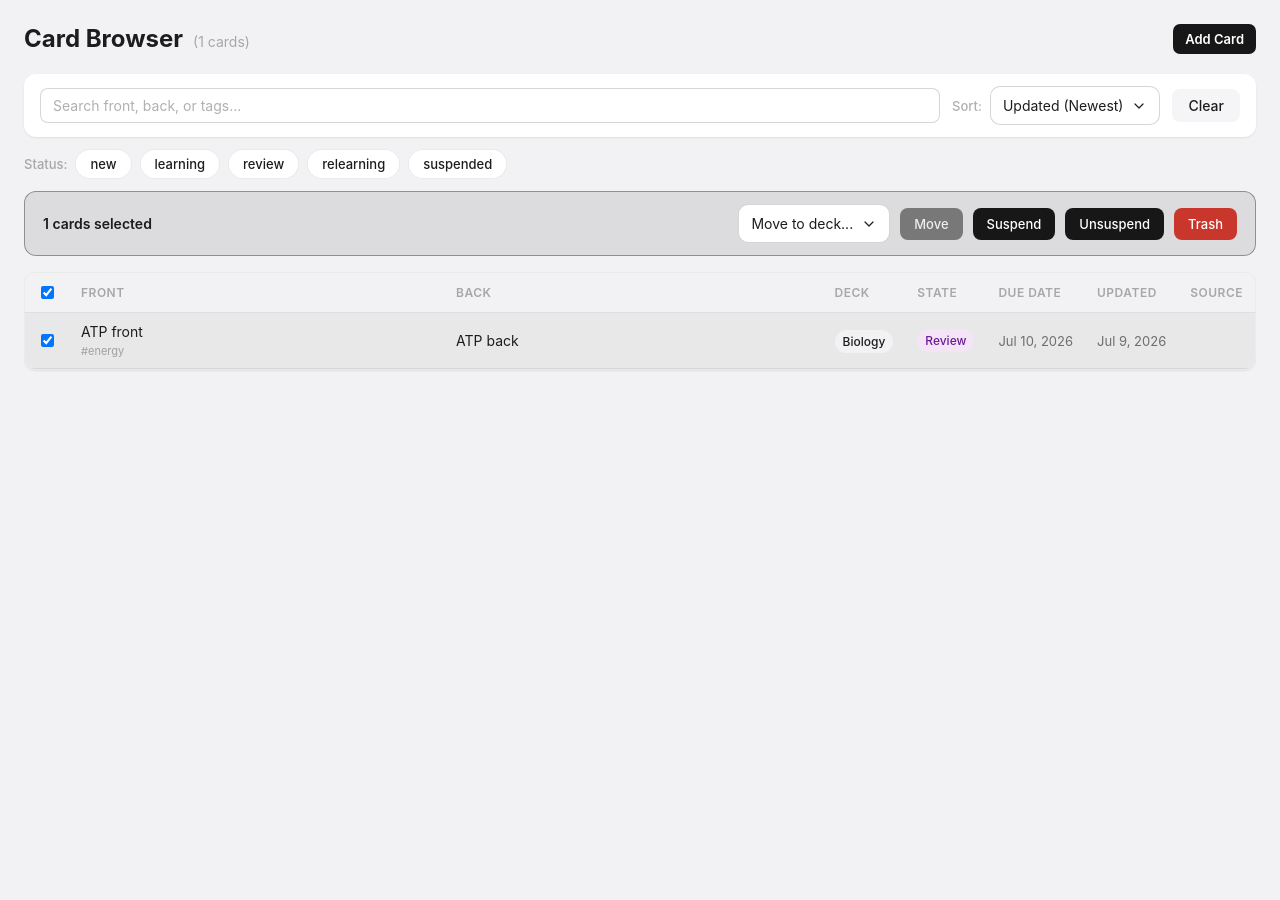
CardBrowser component › handles bulk operations and side panel editing
This screenshot has width=1280, height=900.
Expected: the text "ATP front" is shown, [81,323,143,340]
Expected: the text "1 cards selected" is shown, [43,215,152,232]
Double-click the text "ATP front" at (640, 340), box [25,312,1255,368]
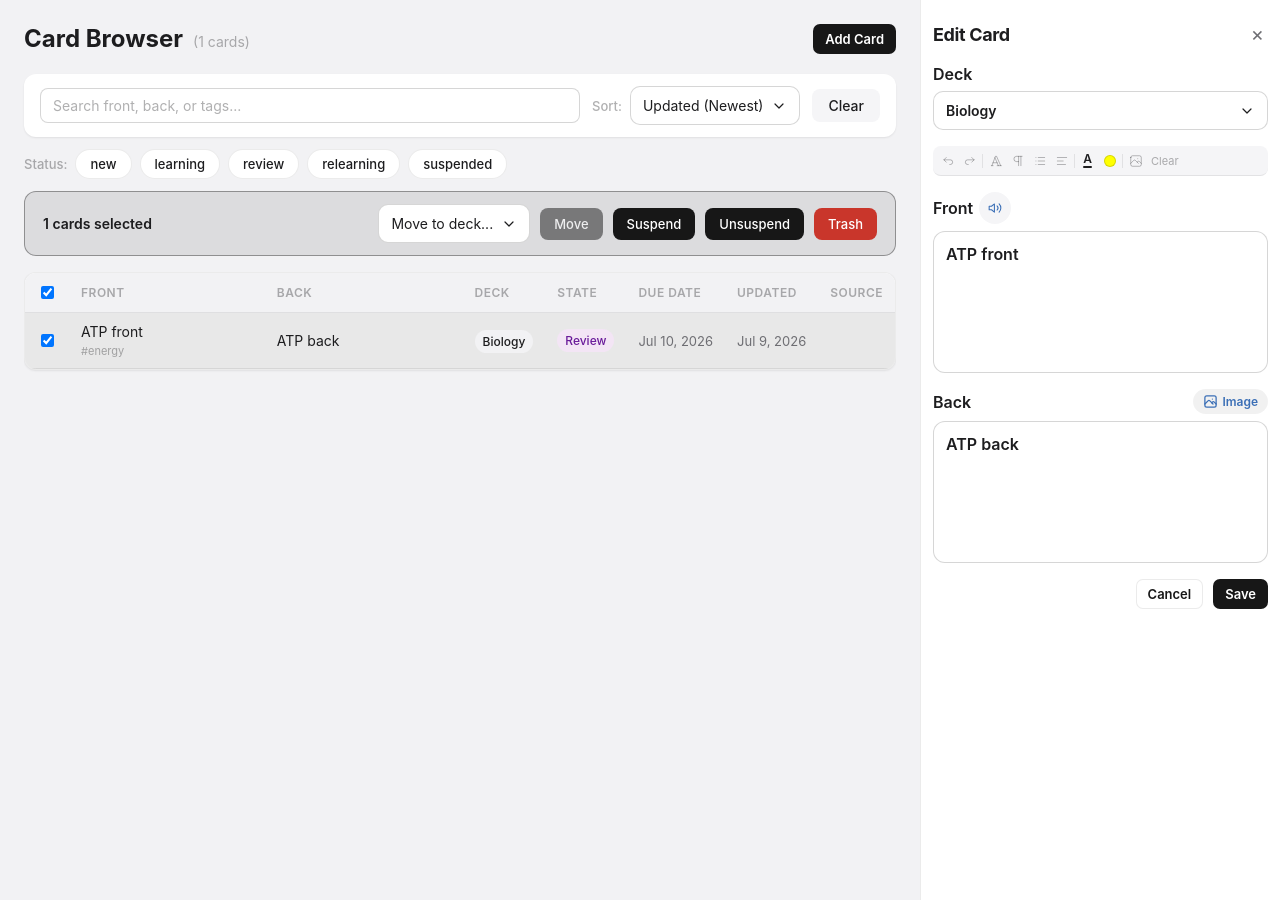
Result: the dialog "Edit Card" is shown at [920,0,1279,899]
Result: the field labelled "front" reads "ATP front" at [946,244,1019,264]
Click the button named "Close composer". click: (1257, 34)
box: [1247,20,1268,48]
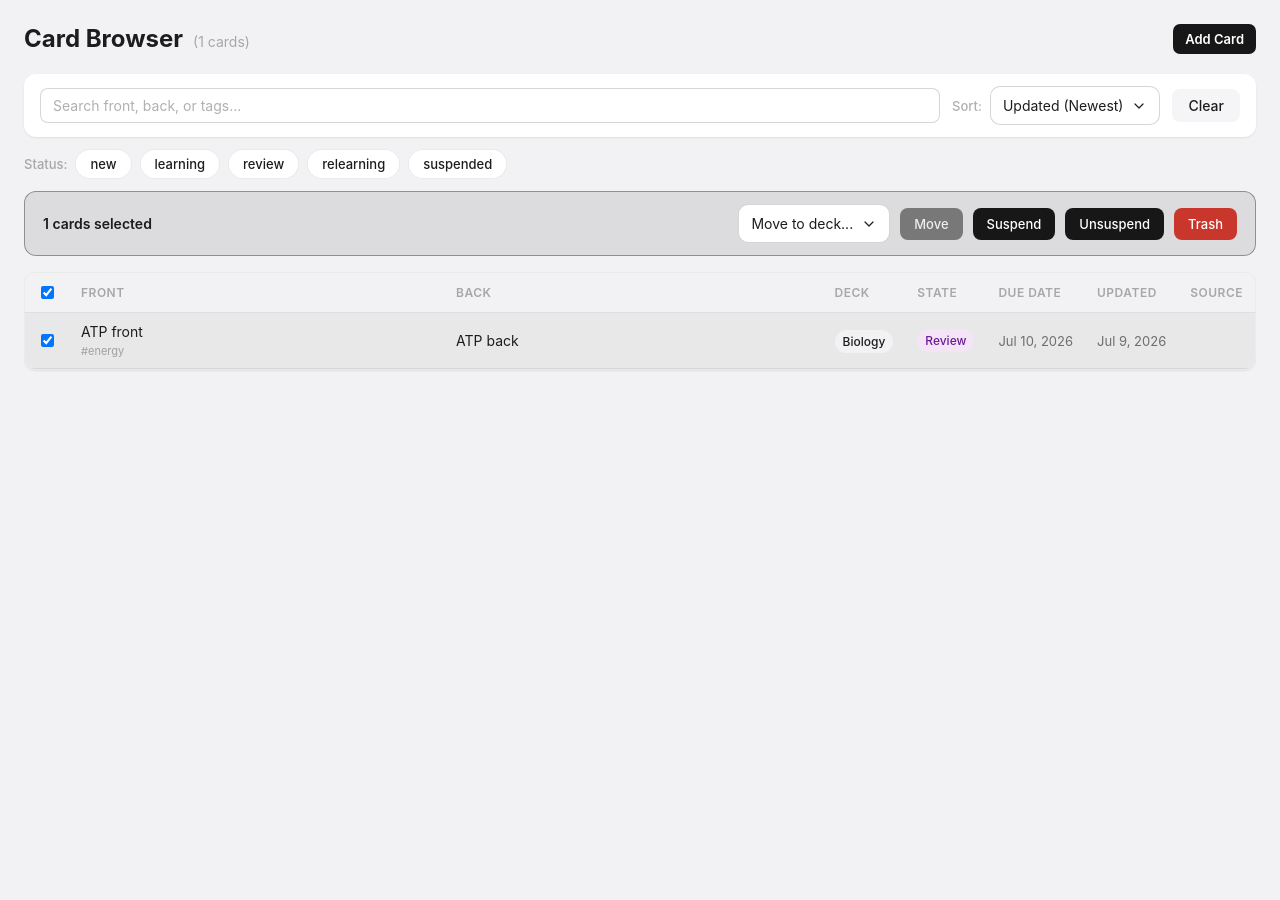
Result: the dialog is gone
